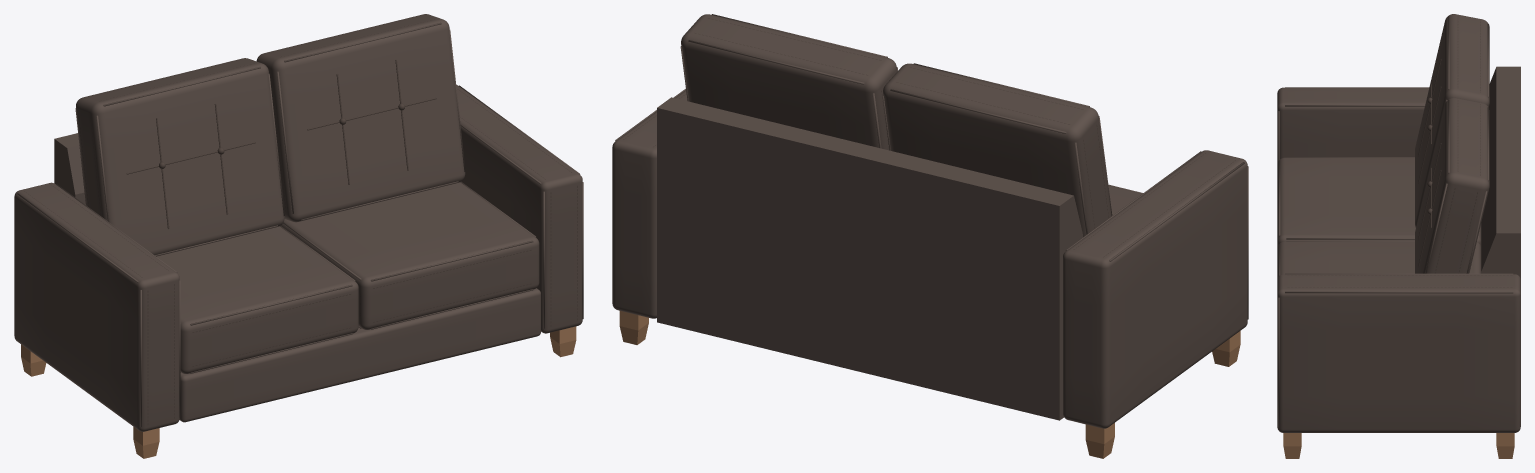
File: benza_160x80.glb
3 renders of one model, left to right at view 1: azimuth 30°, elevation 25°; view 2: azimuth 150°, elevation 25°; view 3: azimuth 270°, elevation 25°, orthographic. The views are drawn at different scales.
Parts seen in each view (by area): view 1: p1, p2, p0; view 2: p1, p0, p2; view 3: p1, p2, p0.
Part boxes in pixels (bbox=[...]): p1: bbox=[14, 14, 583, 431]; p2: bbox=[24, 15, 577, 424]; p0: bbox=[21, 326, 576, 458]; p1: bbox=[612, 14, 1248, 428]; p0: bbox=[619, 311, 1240, 458]; p2: bbox=[623, 18, 1235, 257]; p1: bbox=[1277, 14, 1520, 432]; p2: bbox=[1287, 16, 1512, 287]; p0: bbox=[1283, 433, 1514, 458].
Bounding box in the file's own units: 1.6 × 0.9642 × 0.8006.
Materials: 3 (2 with a texture image).
